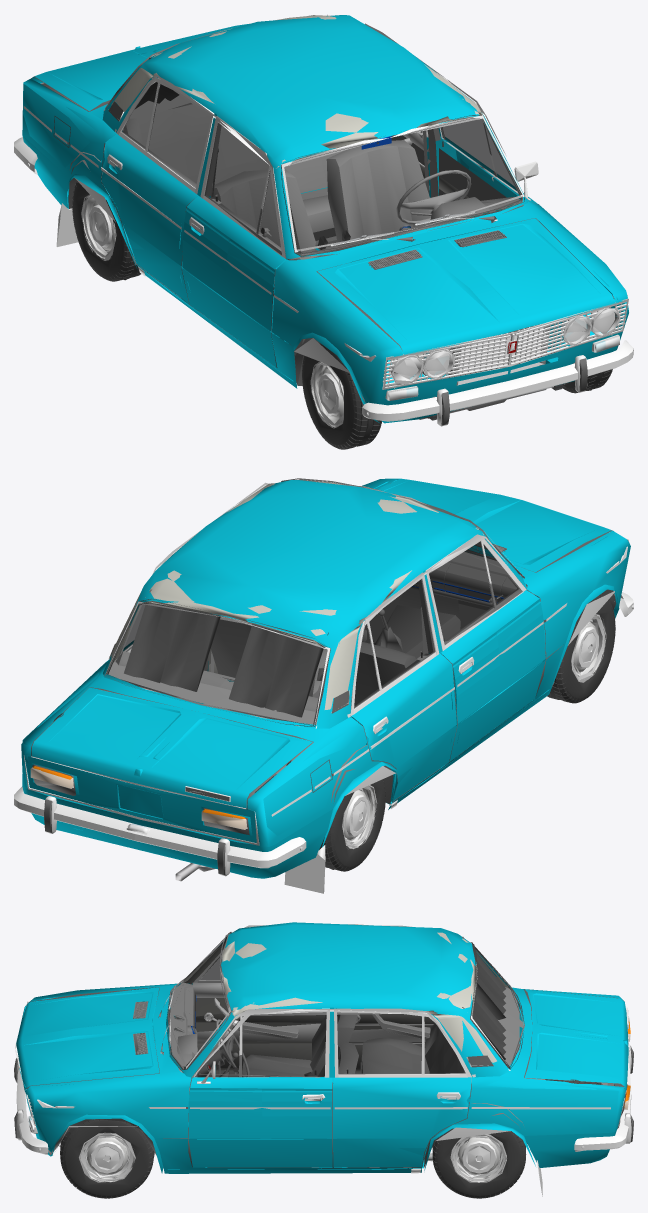
3 renders of one model, top to bottom at view 1: azimuth 30°, elevation 25°; view 2: azimuth 150°, elevation 25°; view 3: azimuth 270°, elevation 25°, orthographic. The views are drawn at different scales.
Parts seen in each view (by area): view 1: Object_79, Object_51, Object_31, Object_70, Object_71, Object_5, Object_54, Object_25, Object_62, Object_64, Object_55, Object_72 (+9 smaller); view 2: Object_79, Object_51, Object_49, Object_71, Object_70, Object_4, Object_31, Object_25, Object_62, Object_75, Object_29, Object_32 (+8 smaller); view 3: Object_79, Object_51, Object_71, Object_31, Object_70, Object_72, Object_52, Object_53, Object_25, Object_62, Object_29, Object_49 (+9 smaller).
Boxes of the visible parts, x1,y1,x2,y2 form: Object_79: (22,15,628,423); Object_51: (122,82,521,254); Object_31: (122,103,432,254); Object_70: (23,23,628,400); Object_71: (89,77,619,415); Object_5: (362,340,633,426); Object_54: (302,342,381,449); Object_25: (111,15,484,168); Object_62: (31,15,614,425); Object_64: (137,123,617,376); Object_55: (72,181,140,281); Object_72: (391,135,506,200); Object_79: (21,478,630,878); Object_51: (106,541,522,724); Object_49: (124,589,328,717); Object_71: (118,539,598,837); Object_70: (24,482,629,893); Object_4: (14,786,306,876); Object_31: (115,616,415,711); Object_25: (106,480,483,709); Object_62: (31,478,612,875); Object_75: (364,580,552,659); Object_29: (362,552,519,641); Object_32: (108,658,318,726); Object_79: (16,922,628,1173); Object_51: (169,936,523,1076); Object_71: (30,927,496,1173); Object_31: (218,1014,471,1082); Object_70: (15,925,629,1196); Object_72: (196,998,434,1071); Object_52: (60,1119,154,1198); Object_53: (432,1128,526,1198); Object_25: (222,924,509,1062); Object_62: (14,932,633,1168); Object_29: (169,982,224,1083); Object_49: (462,937,505,1059).
Size of the model in its own units: 1.77 by 1.43 by 4.12.
